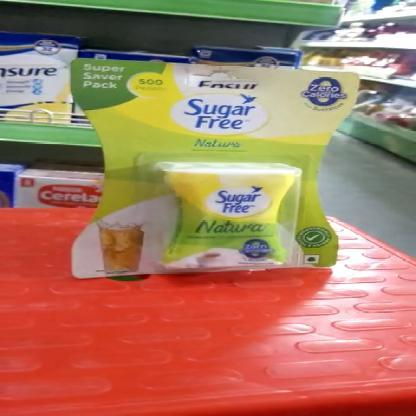SUGAR FREE NATURA 500 PELLET: (71, 58, 362, 278)
